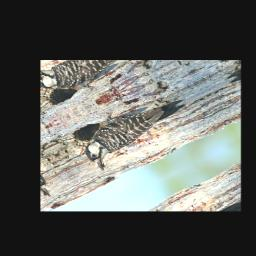Woodpecker: (69, 80, 203, 174)
